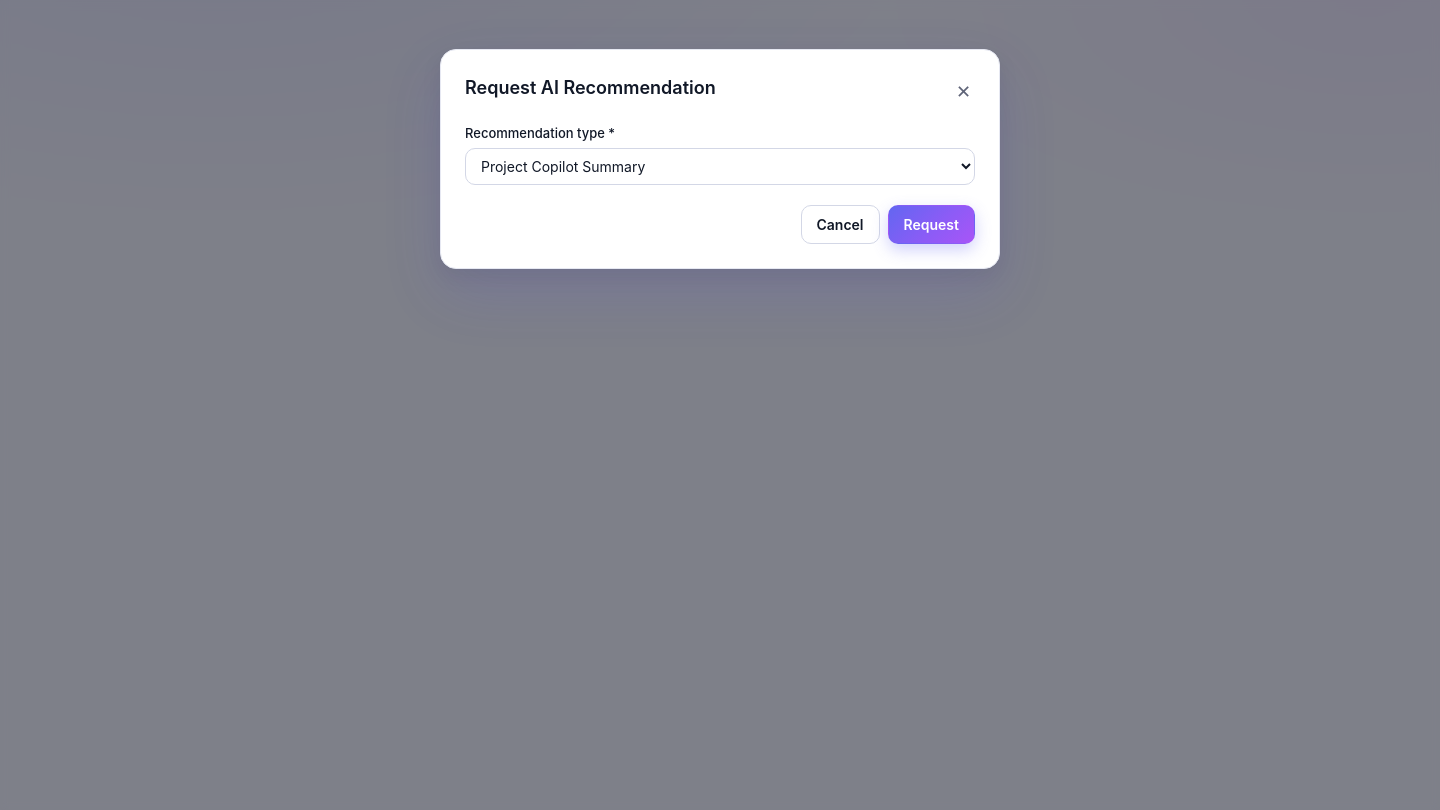
RequestRecommendationDialog — AI provider unavailable › shows a clear unavailable message and never displays fabricated AI content when the backend returns 503
The image size is (1440, 810).
PROJECT_SUMMARY is the default type and needs neither a task nor a question.
Click the button "Request". click: x=931, y=225
box: top-left (888, 205), bottom-right (975, 244)
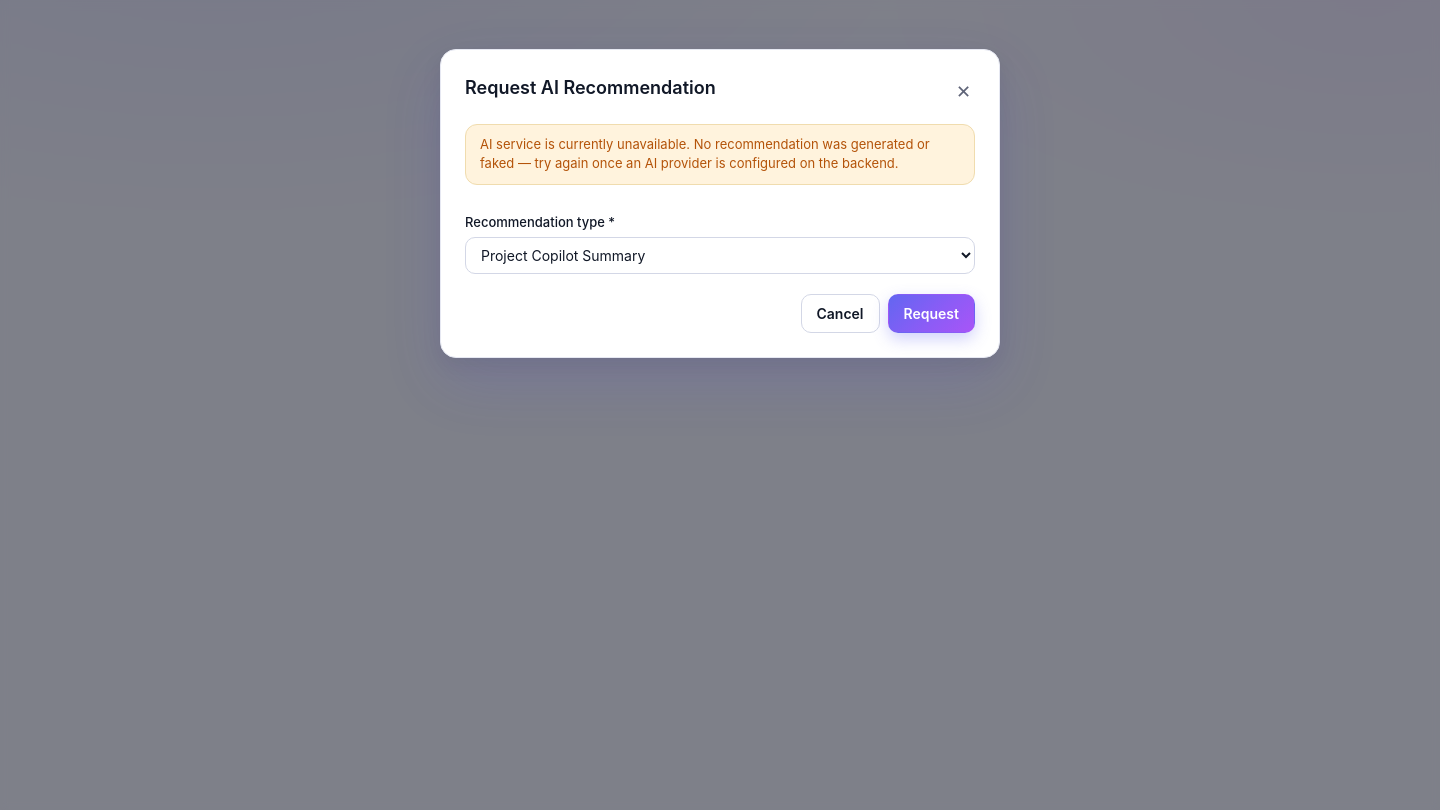
Result: the text "AI service is currently unavailable" is shown at top-left (480, 136), bottom-right (930, 171)
